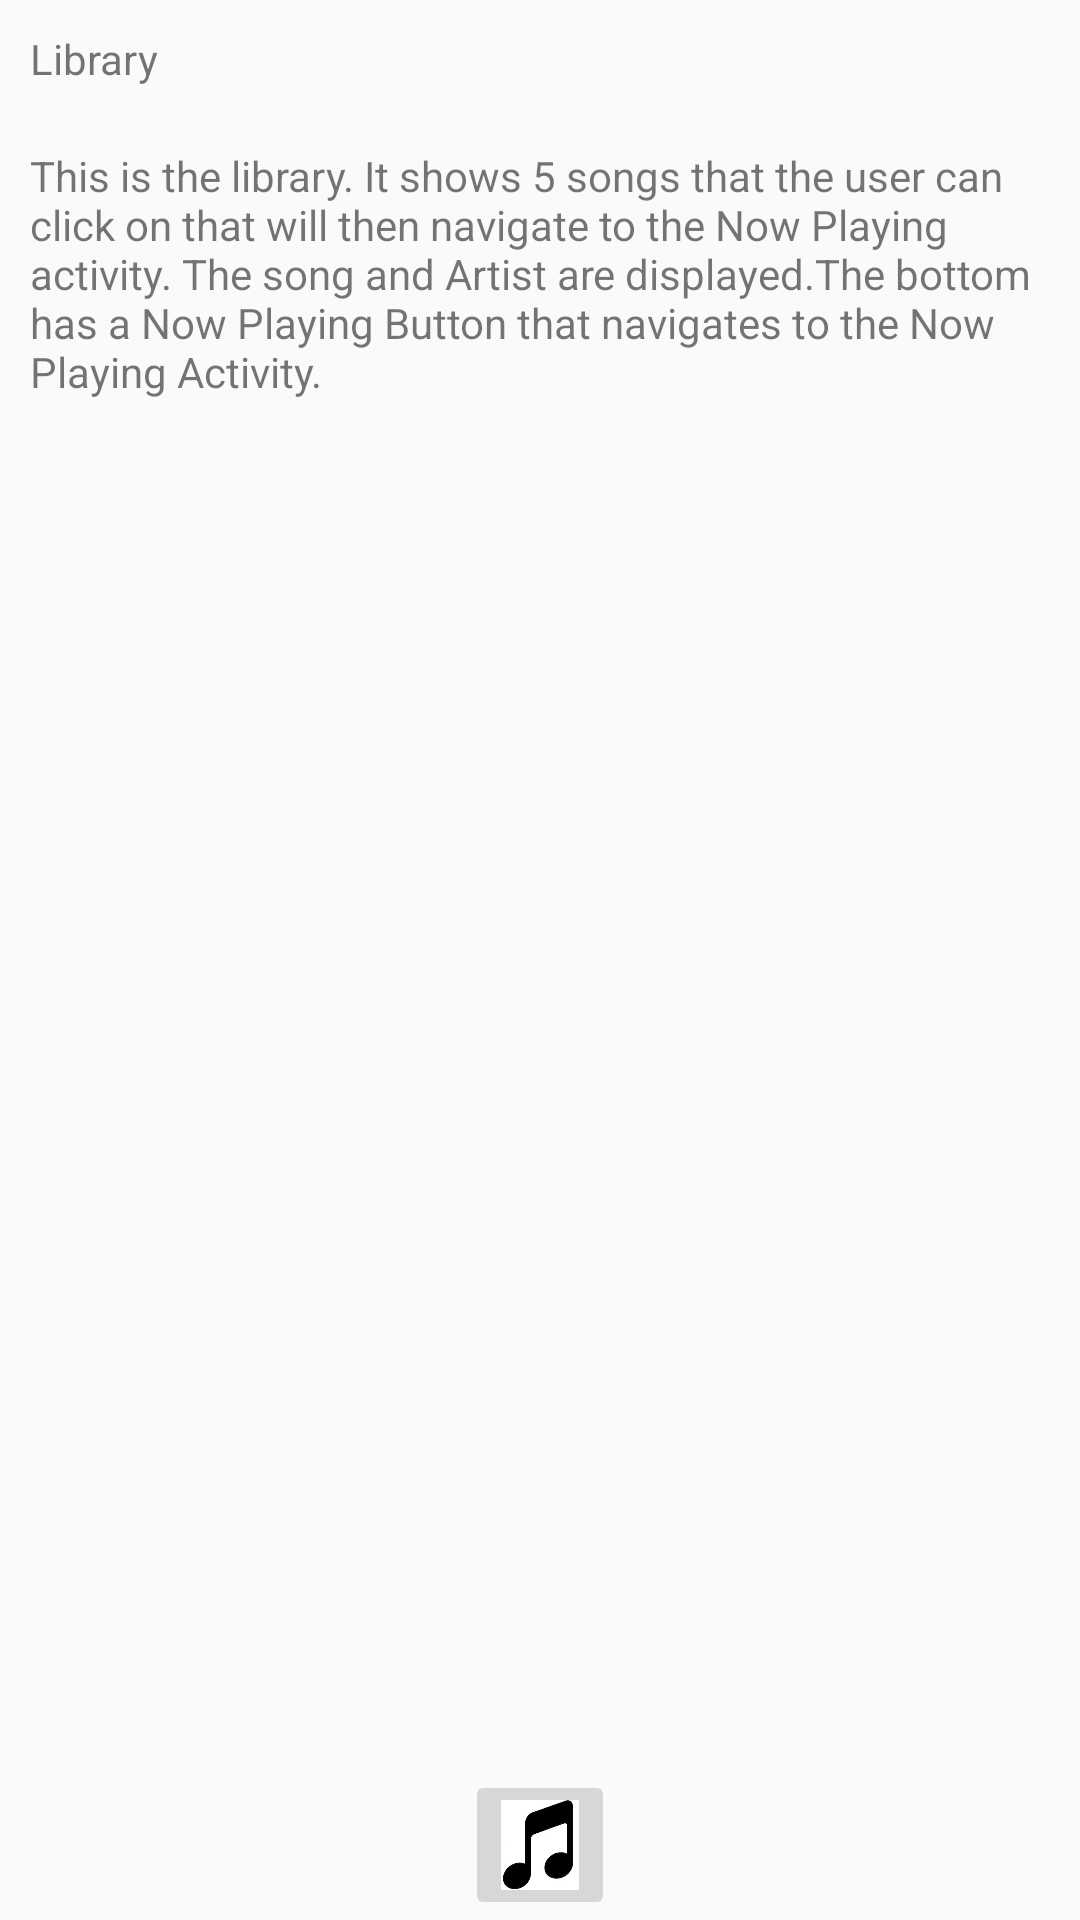

Named icons in this screenshot (1080×1920) and their bounding boxes, (x1, y1, x2, y2):
music note: (477, 1788, 603, 1902)
